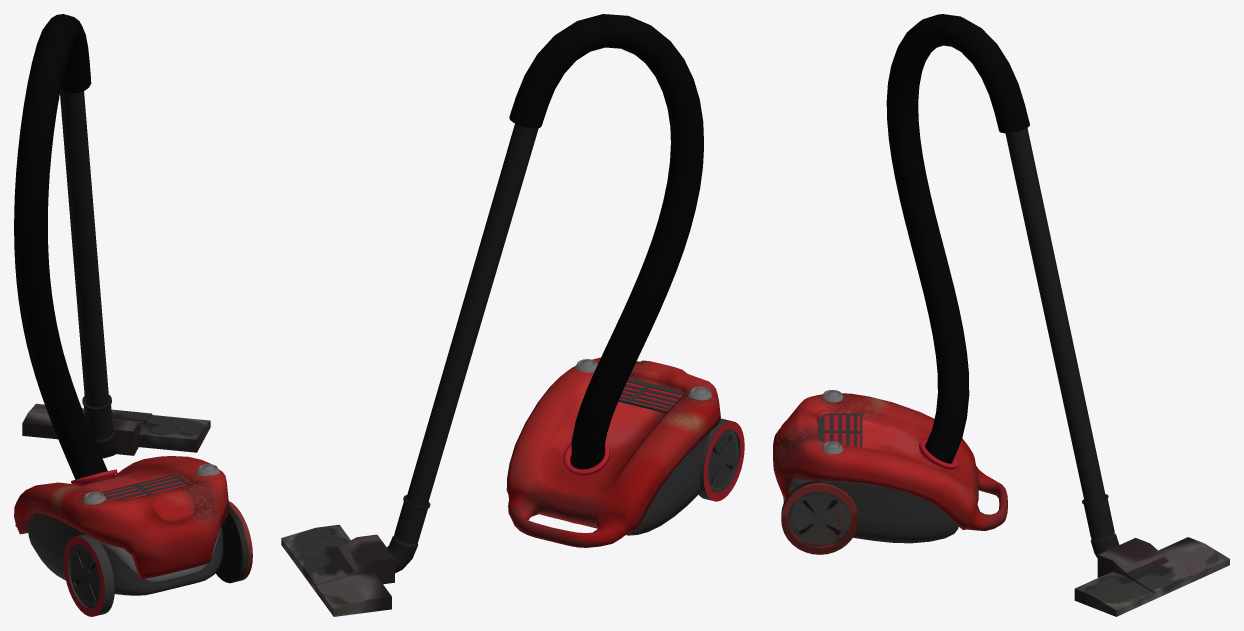
Rendered from VacuumCleaner.fbx.
3 views of the same model, side by side, from view 1: azimuth 30°, elevation 25°; view 2: azimuth 150°, elevation 25°; view 3: azimuth 270°, elevation 25° (orthographic). The views are drawn at different scales.
Parts seen in each view (by area): view 1: Bake.004, Vacuumfront.003, Cylinder.005, VacuumBack.002, Cube.002, Wheels.004, Wheels.001, Rist.002, Button.002, Tubeopening.002; view 2: Vacuumfront.003, Bake.004, Cylinder.005, Cube.002, Wheels.004, VacuumBack.002, Rist.002; view 3: Bake.004, Vacuumfront.003, Cylinder.005, Cube.002, VacuumBack.002, Wheels.001, Rist.002.
Boxes of the visible parts, x1,y1,x2,y2 form: Bake.004: (14, 14, 107, 479); Vacuumfront.003: (14, 456, 228, 578); Cylinder.005: (60, 89, 118, 458); VacuumBack.002: (27, 513, 223, 595); Cube.002: (22, 403, 210, 455); Wheels.004: (63, 534, 114, 616); Wheels.001: (215, 501, 252, 583); Rist.002: (100, 474, 189, 499); Button.002: (82, 464, 219, 504); Tubeopening.002: (71, 469, 117, 485); Vacuumfront.003: (506, 357, 720, 547); Bake.004: (509, 14, 703, 469); Cylinder.005: (387, 123, 538, 573); Cube.002: (281, 524, 394, 616); Wheels.004: (698, 418, 744, 501); VacuumBack.002: (539, 432, 710, 535); Rist.002: (618, 378, 683, 413); Bake.004: (886, 14, 1029, 463); Vacuumfront.003: (773, 393, 1007, 530); Cylinder.005: (1005, 128, 1119, 557); Cube.002: (1074, 537, 1229, 616); VacuumBack.002: (783, 478, 958, 543); Wheels.001: (781, 480, 858, 554); Rist.002: (818, 413, 862, 447).
Size of the model in its own units: 256 by 424 by 353.
